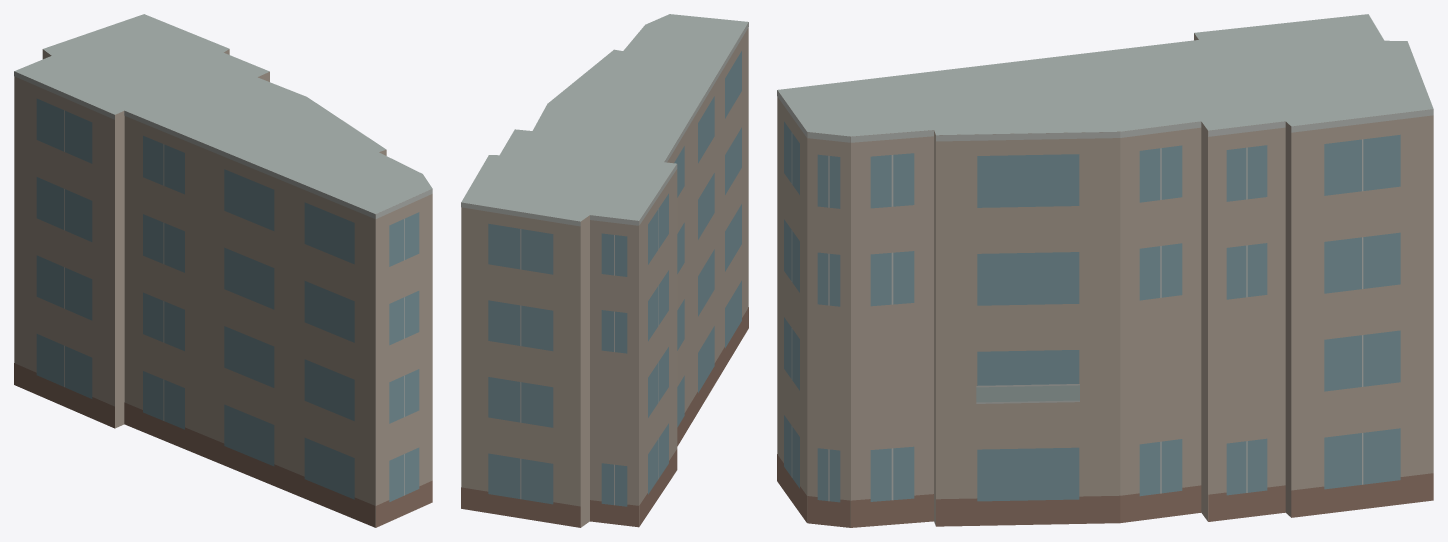
The model's file is survey-upis-32780649.glb.
The picture shows the model from 3 angles, left to right: view 1: azimuth 30°, elevation 25°; view 2: azimuth 150°, elevation 25°; view 3: azimuth 270°, elevation 25°; orthographic projection. The views are drawn at different scales.
Visible parts, largest first — view 1: survey-upis-32780649.tmp; view 2: survey-upis-32780649.tmp; view 3: survey-upis-32780649.tmp.
Part boxes in pixels (x1,y1,x2,y2): survey-upis-32780649.tmp: (14, 14, 432, 527); survey-upis-32780649.tmp: (461, 14, 748, 527); survey-upis-32780649.tmp: (777, 14, 1433, 527).
Size of the model in its own units: 10.21 by 15.2 by 23.12.
